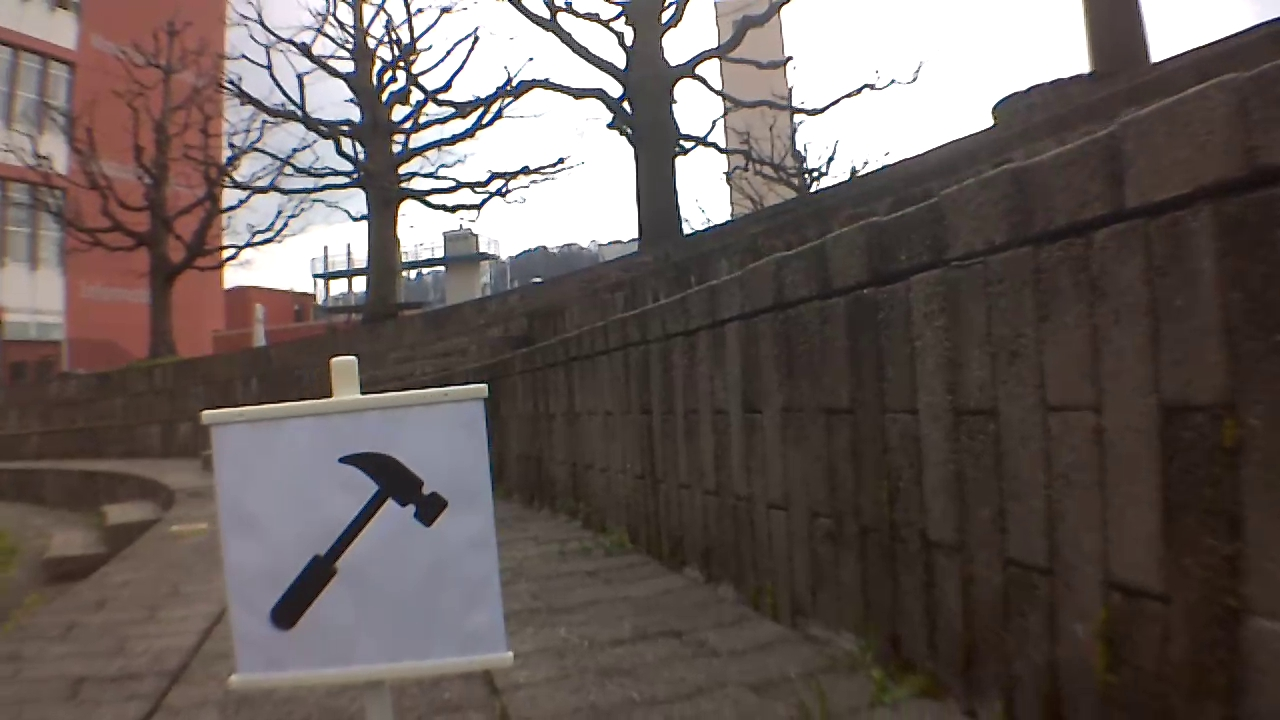hammer: (266, 441, 451, 632)
